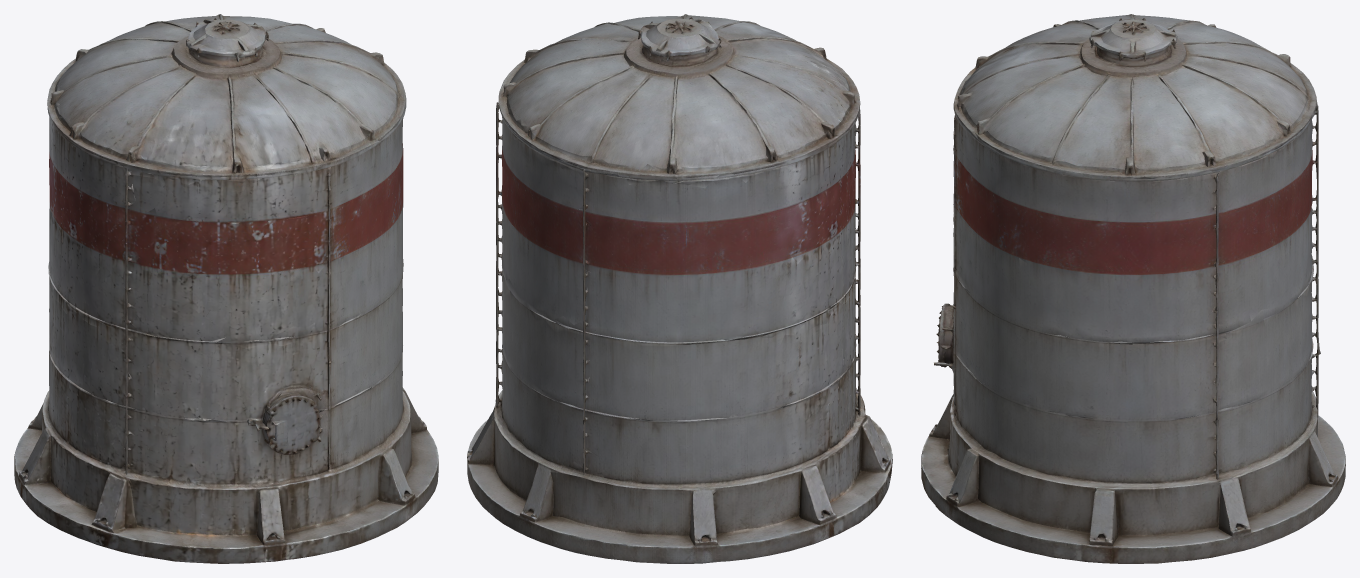
File: PROP-TANK.glb
3 renders of one model, left to right at view 1: azimuth 30°, elevation 25°; view 2: azimuth 150°, elevation 25°; view 3: azimuth 270°, elevation 25°, orthographic.
Parts seen in each view (by area): view 1: Mesh; view 2: Mesh; view 3: Mesh.
Part boxes in pixels (left/top/right/bottom): Mesh: left=14, top=14, right=438, bottom=563; Mesh: left=467, top=14, right=892, bottom=563; Mesh: left=921, top=14, right=1345, bottom=563.
Bounding box in the file's own units: 1.63 × 1.9 × 1.62.
Materials: 1 (1 with a texture image).
